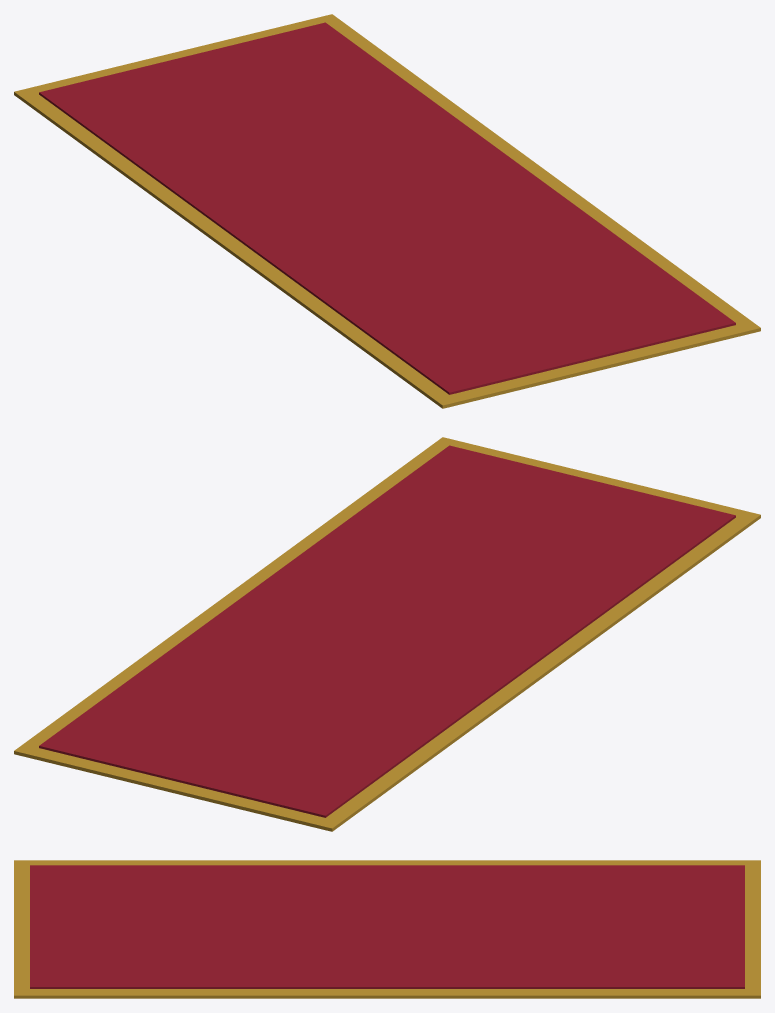
The model's file is tt-carpet.glb.
3 views of the same model, one above another, from view 1: azimuth 30°, elevation 25°; view 2: azimuth 150°, elevation 25°; view 3: azimuth 270°, elevation 25° (orthographic). The views are drawn at different scales.
Parts seen in each view (by area): view 1: box-prop; view 2: box-prop; view 3: box-prop.
Part boxes in pixels (left/top/right/bottom): box-prop: left=14, top=14, right=760, bottom=408; box-prop: left=14, top=437, right=760, bottom=831; box-prop: left=14, top=860, right=760, bottom=998.
Size of the model in its own units: 3 by 0.05 by 7.
